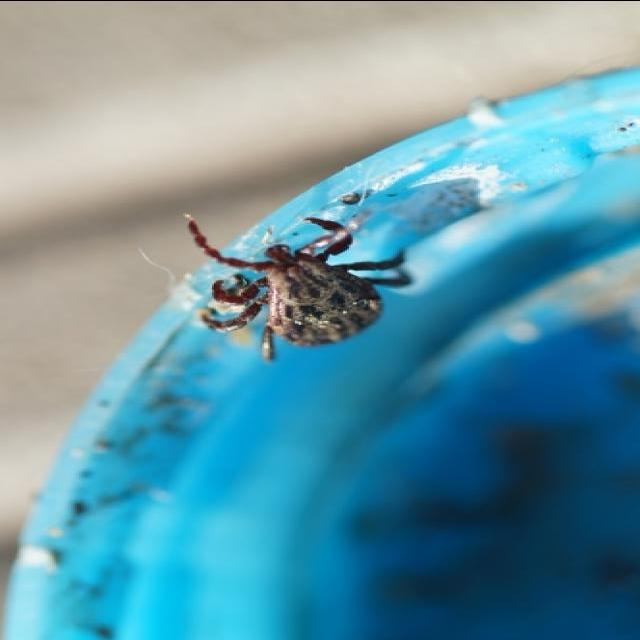Dermacentor Reticulatus-M: (189, 215, 413, 361)
